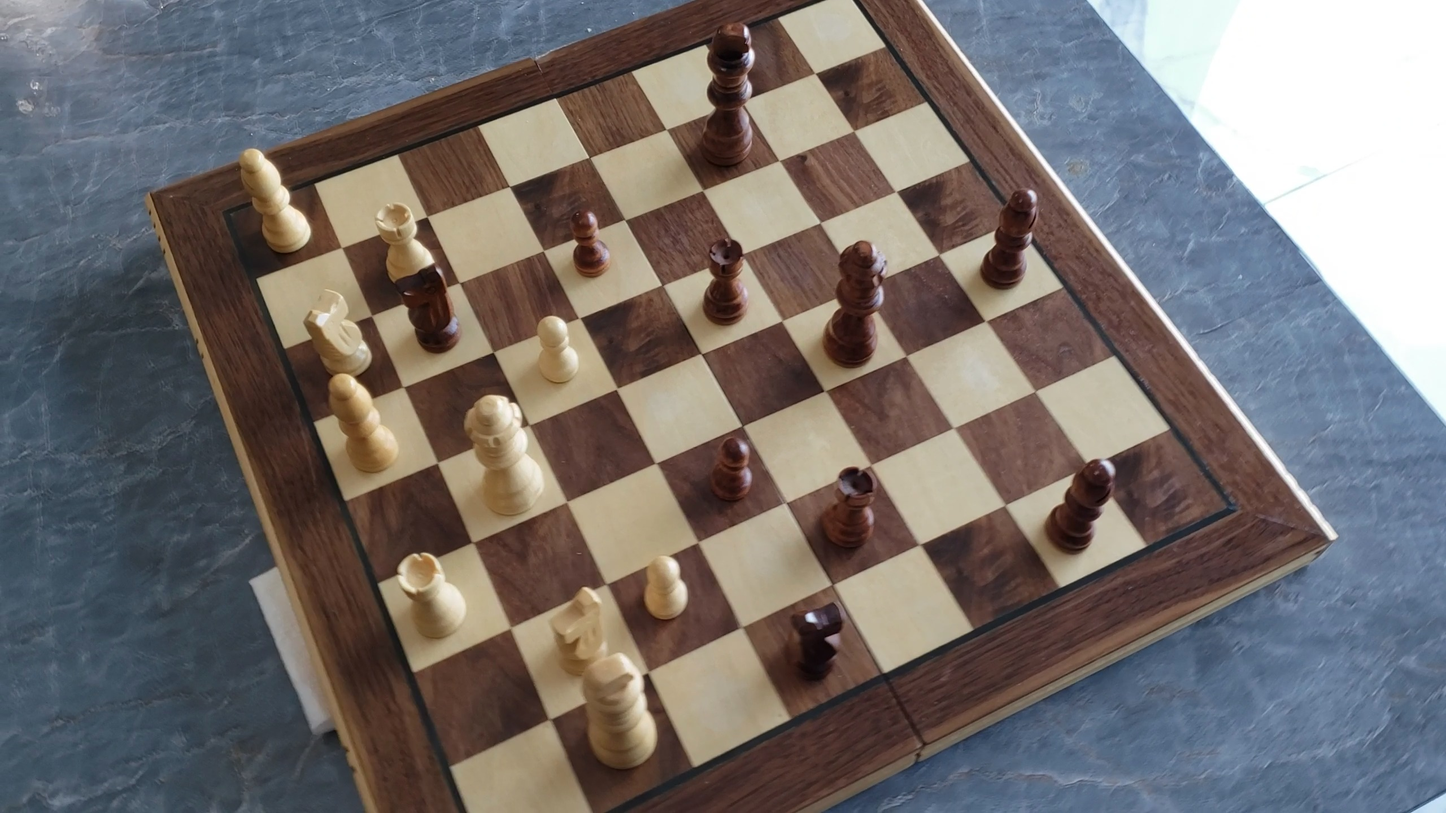black-bishop: (1043, 455, 1118, 555), (979, 183, 1040, 290)
black-king: (699, 16, 759, 169)
black-knight: (398, 260, 462, 354), (786, 601, 848, 683)
black-pawn: (707, 430, 756, 505), (567, 204, 611, 281)
black-queen: (819, 235, 902, 364)
black-rook: (820, 464, 881, 551), (701, 233, 750, 328)
white-bishop: (234, 150, 321, 260), (323, 371, 403, 476)
white-king: (585, 645, 659, 774)
white-knight: (301, 286, 375, 379), (547, 583, 611, 676)
white-pawn: (637, 549, 694, 625), (530, 311, 583, 388)
white-queen: (459, 392, 549, 521)
white-rook: (395, 547, 472, 643), (373, 199, 438, 289)
